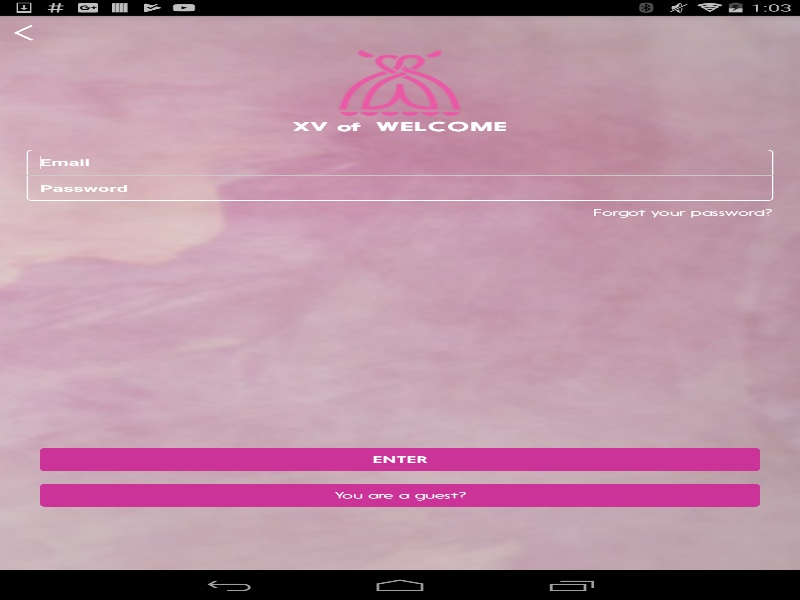Input: (26, 149, 773, 175), (26, 175, 773, 200)
